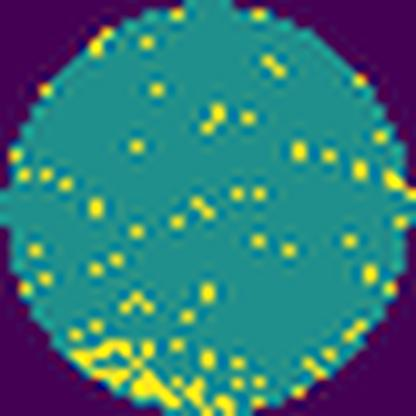Edge-Loc: (66, 339, 233, 416)
